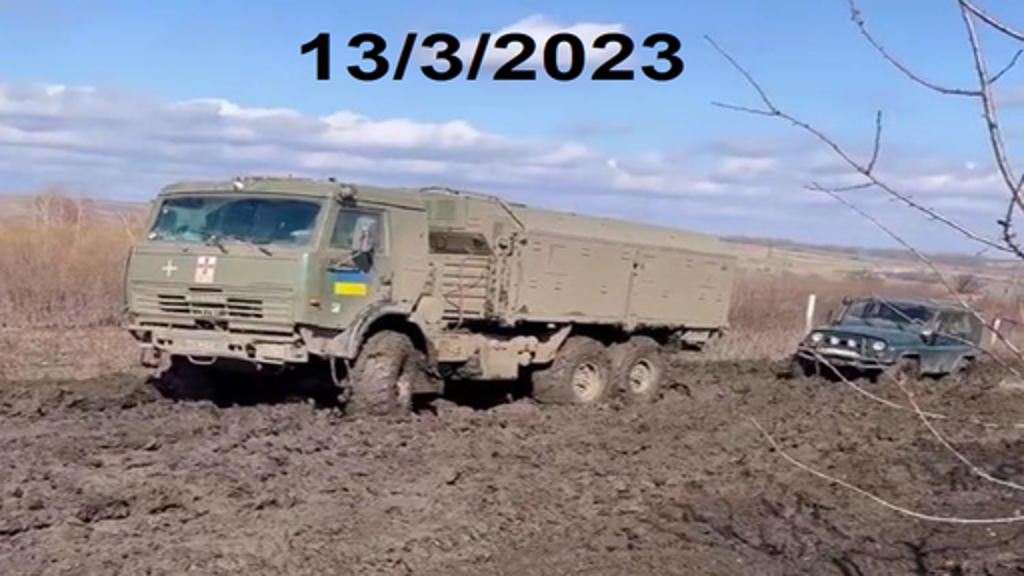CAR: (788, 284, 986, 390)
TRUCK: (116, 134, 730, 430)
